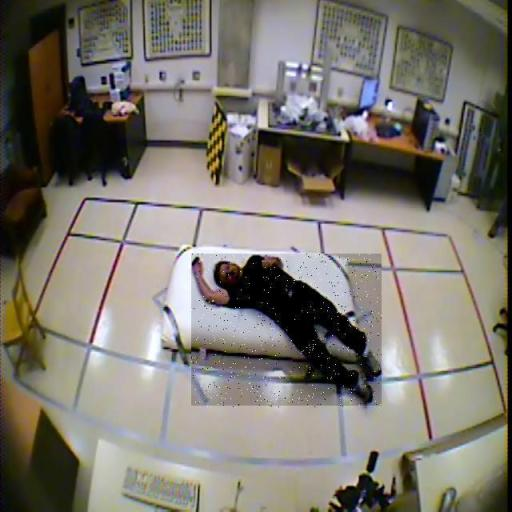Fall: (191, 254, 382, 408)
